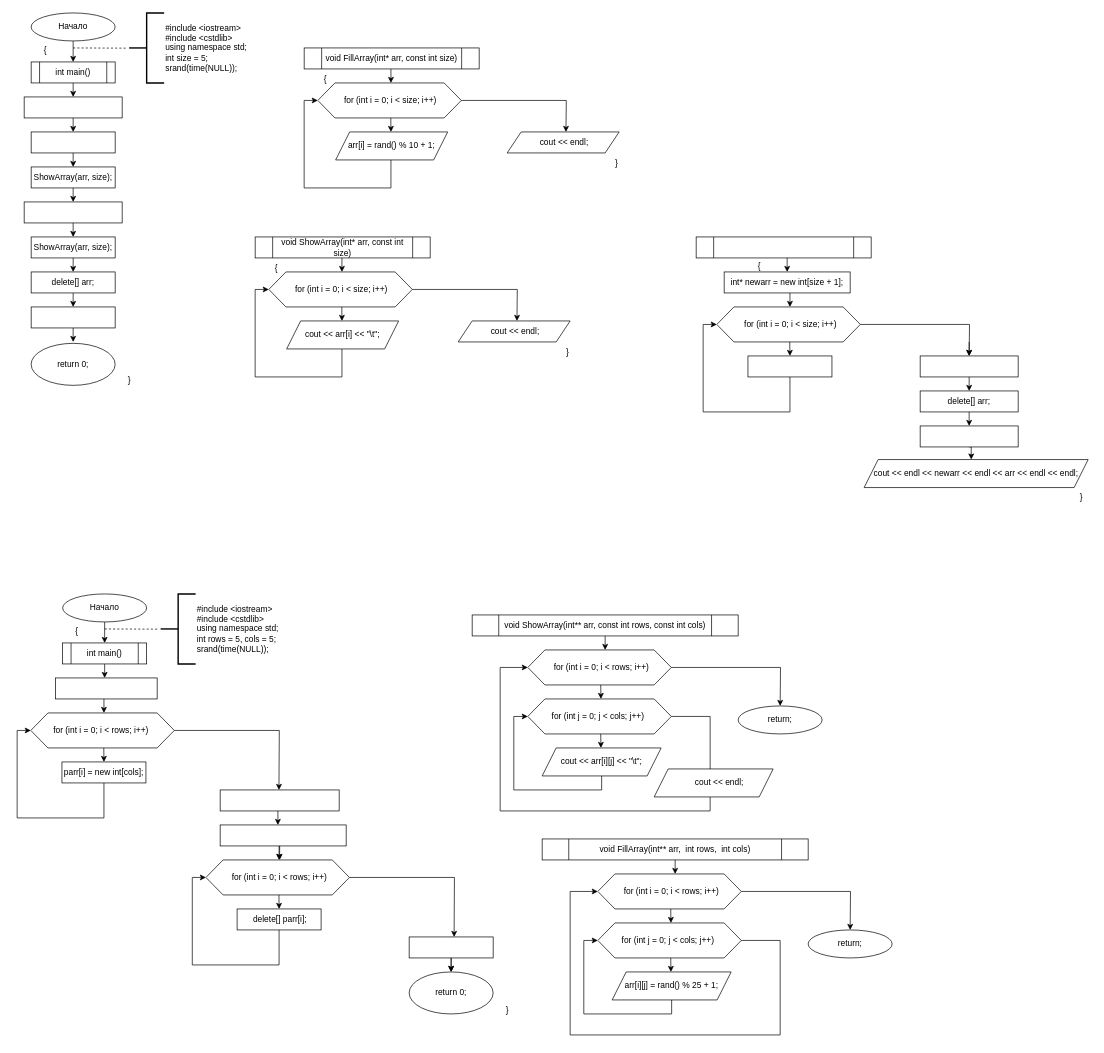
Some shapes in this 1104 by 1053 pixel diagram are drawn without their labels. The shapes that lost their labels are listed below. From the top down, each one's centre as x and y in pixels, then its label:
the point at 72,107: int* arr = new int[size];
the point at 72,142: FillArray(arr, size);
the point at 72,212: ChangeSize(arr, size);
the point at 783,247: void ChangeSize(int*& arr, int &size)
the point at 72,317: arr = nullptr;
the point at 789,366: newarr[i] = arr[i];
the point at 968,366: size++;
the point at 968,436: arr = newarr;
the point at 106,688: int** parr = new int* [rows];
the point at 279,800: FillArray(parr, rows, cols);
the point at 282,835: ShowArray(parr, rows, cols);
the point at 450,947: delete[] parr;
